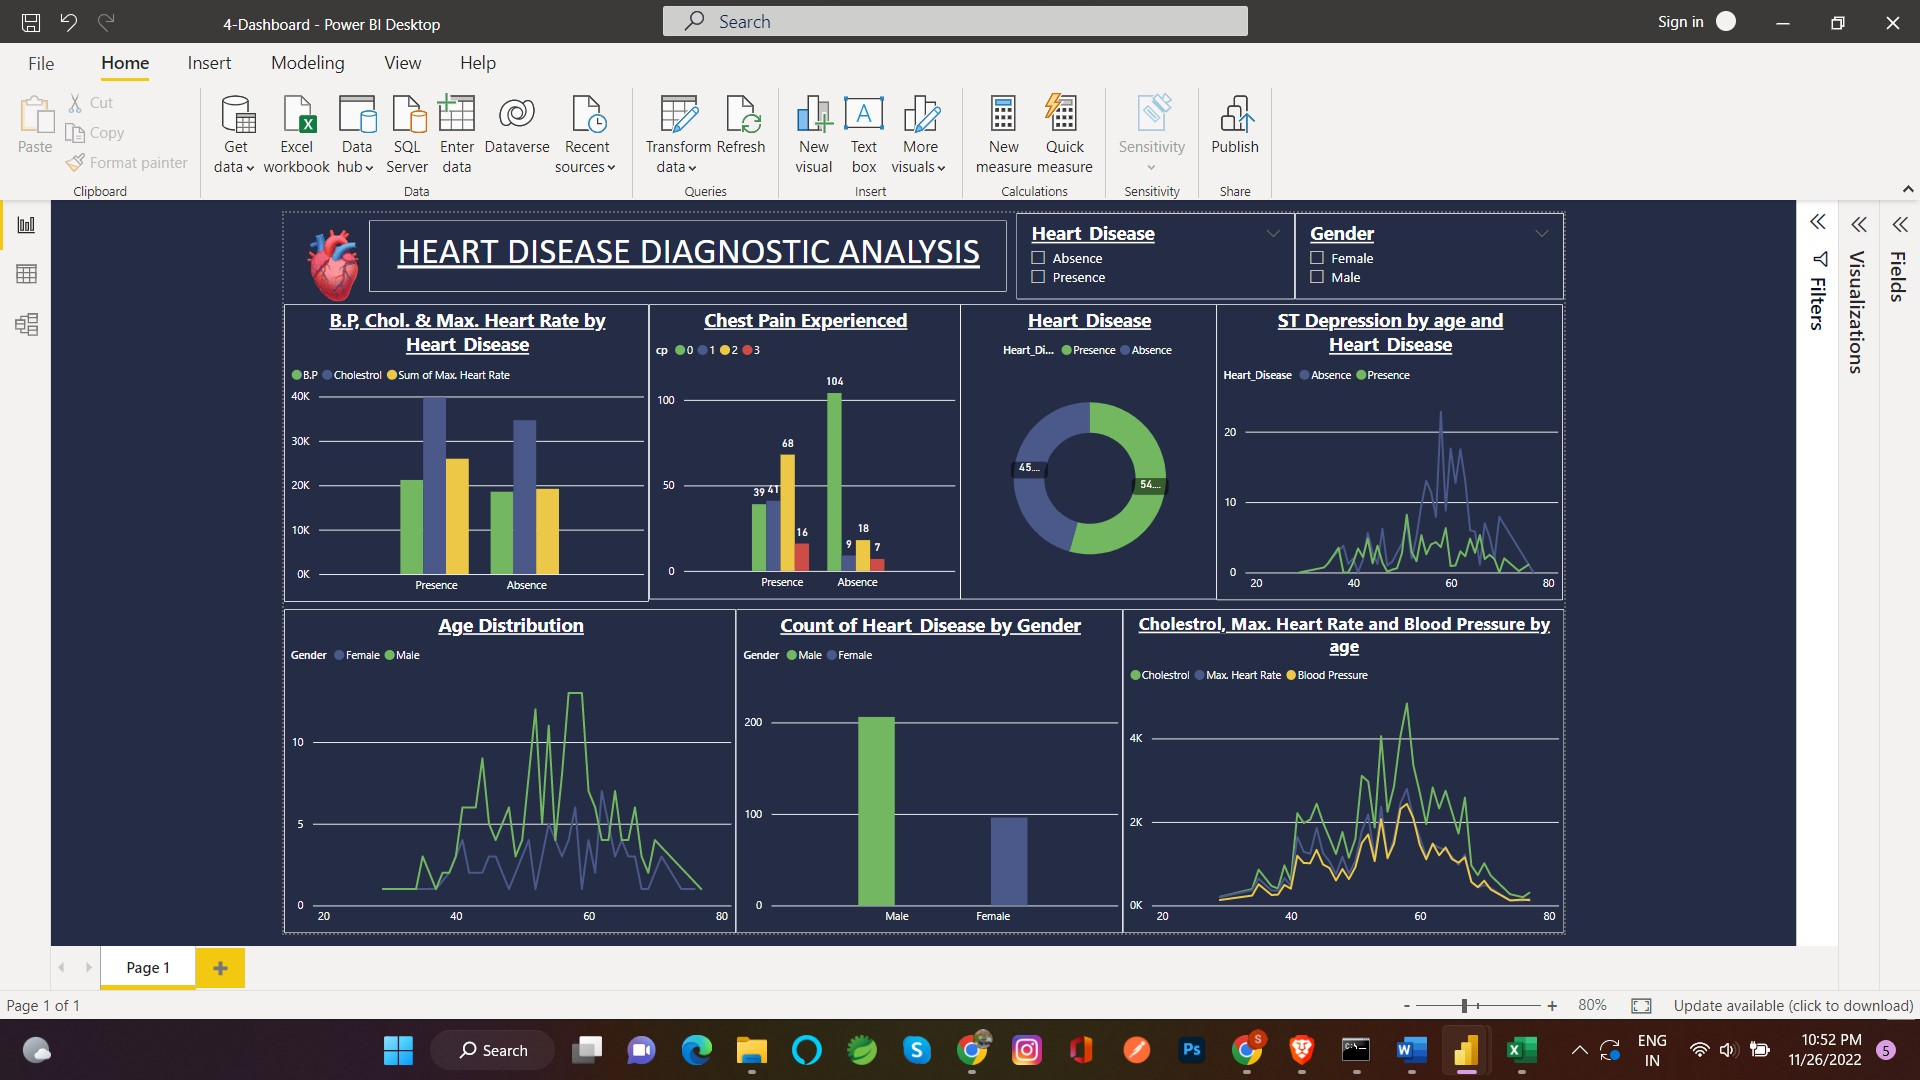

What the dashboard file says about the page in this screenshot:
{"tool":"powerbi","page":{"name":"Page 1","canvas":[1280,720],"ordinal":0},"visuals":[{"type":"textbox","box":[85,7.5,637.5,71.2],"z":0},{"type":"image","box":[0,7.3,85.6,85.6],"z":1000},{"type":"donutChart","title":"Heart_Disease","fields":{"Y":["CountNonNull(Heart Disease Diagnostic Analysis.Heart_Disease)"],"Category":["Heart Disease Diagnostic Analysis.Heart_Disease"]},"box":[676.7,91.7,256.7,295],"z":2000},{"type":"lineChart","title":"Age Distribution","fields":{"Category":["Heart Disease Diagnostic Analysis.age"],"Series":["Heart Disease Diagnostic Analysis.Gender"],"Y":["CountNonNull(Heart Disease Diagnostic Analysis.Gender)"]},"box":[0,396.1,452.3,323.9],"z":3000},{"type":"clusteredColumnChart","title":"Count of Heart_Disease by Gender","fields":{"Series":["Heart Disease Diagnostic Analysis.Gender"],"Category":["Heart Disease Diagnostic Analysis.Gender"],"Y":["CountNonNull(Heart Disease Diagnostic Analysis.Heart_Disease)"]},"box":[452.3,396.1,386.3,323.9],"z":4000},{"type":"clusteredColumnChart","title":"Chest Pain Experienced","fields":{"Y":["CountNonNull(Heart Disease Diagnostic Analysis.cp)"],"Category":["Heart Disease Diagnostic Analysis.Heart_Disease"],"Series":["Heart Disease Diagnostic Analysis.cp"]},"box":[365,91.7,311.7,295],"z":5000},{"type":"lineChart","fields":{"Category":["Heart Disease Diagnostic Analysis.age"],"Y":["Sum(Heart Disease Diagnostic Analysis.chol)","Sum(Heart Disease Diagnostic Analysis.thalach)","Sum(Heart Disease Diagnostic Analysis.trestbps)"]},"box":[838.6,396.1,441.3,323.9],"z":6000},{"type":"clusteredColumnChart","title":"B.P, Chol. & Max. Heart Rate by Heart_Disease","fields":{"Category":["Heart Disease Diagnostic Analysis.Heart_Disease"],"Y":["Sum(Heart Disease Diagnostic Analysis.B.P)","Sum(Heart Disease Diagnostic Analysis.Cholestrol)","Sum(Heart Disease Diagnostic Analysis.Max. Heart Rate)"]},"box":[0,91.2,365,297.5],"z":7000},{"type":"lineChart","title":"ST Depression by age and Heart_Disease","fields":{"Category":["Heart Disease Diagnostic Analysis.age"],"Y":["Sum(Heart Disease Diagnostic Analysis.oldpeak)"],"Series":["Heart Disease Diagnostic Analysis.Heart_Disease"]},"box":[932.5,91.2,346.2,296.2],"z":7001},{"type":"slicer","fields":{"Values":["Heart Disease Diagnostic Analysis.Heart_Disease"]},"box":[732.5,0,278.8,86.2],"z":7002},{"type":"slicer","fields":{"Values":["Heart Disease Diagnostic Analysis.Gender"]},"box":[1011.2,0,268.8,86.2],"z":7003}]}

Visuals, with their boxes on the page's 1280x720 design canvas (x1, y1, x2, y2). These are canvas units, not pixel positions in the 1920x1080 screenshot, which may show the page scaled, cropped or inside an application window:
textbox: select_region(85, 8, 722, 79)
image: select_region(0, 7, 86, 93)
"Heart_Disease" donutChart: select_region(677, 92, 933, 387)
"Age Distribution" lineChart: select_region(0, 396, 452, 720)
"Count of Heart_Disease by Gender" clusteredColumnChart: select_region(452, 396, 839, 720)
"Chest Pain Experienced" clusteredColumnChart: select_region(365, 92, 677, 387)
lineChart - Heart Disease Diagnostic Analysis.age x Sum(Heart Disease Diagnostic Analysis.chol): select_region(839, 396, 1280, 720)
"B.P, Chol. & Max. Heart Rate by Heart_Disease" clusteredColumnChart: select_region(0, 91, 365, 389)
"ST Depression by age and Heart_Disease" lineChart: select_region(932, 91, 1279, 387)
slicer - Heart Disease Diagnostic Analysis.Heart_Disease: select_region(732, 0, 1011, 86)
slicer - Heart Disease Diagnostic Analysis.Gender: select_region(1011, 0, 1280, 86)
